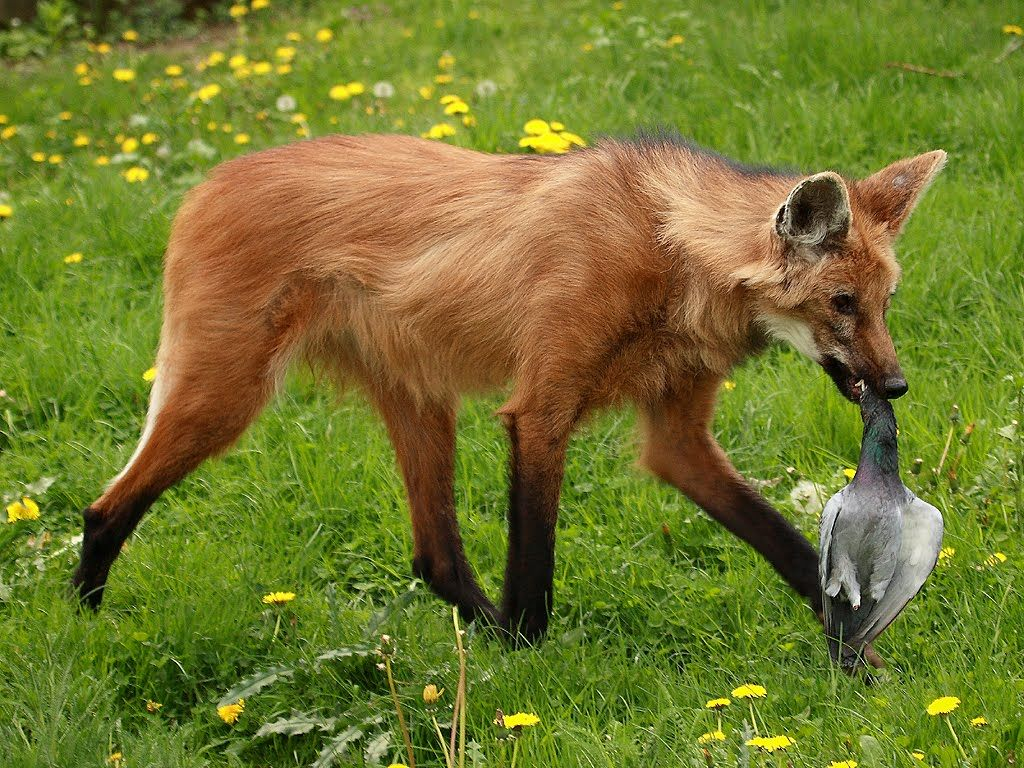LoboGuara: (61, 110, 926, 667)
